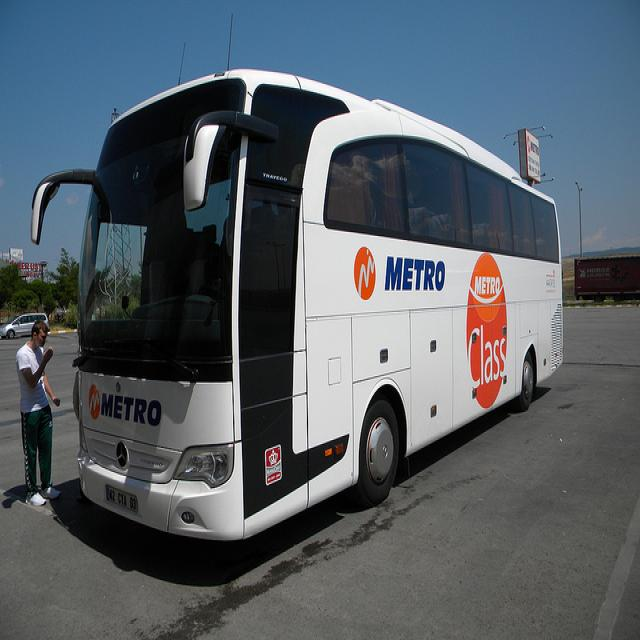Vehicle: (32, 70, 566, 541), (0, 312, 50, 338)
